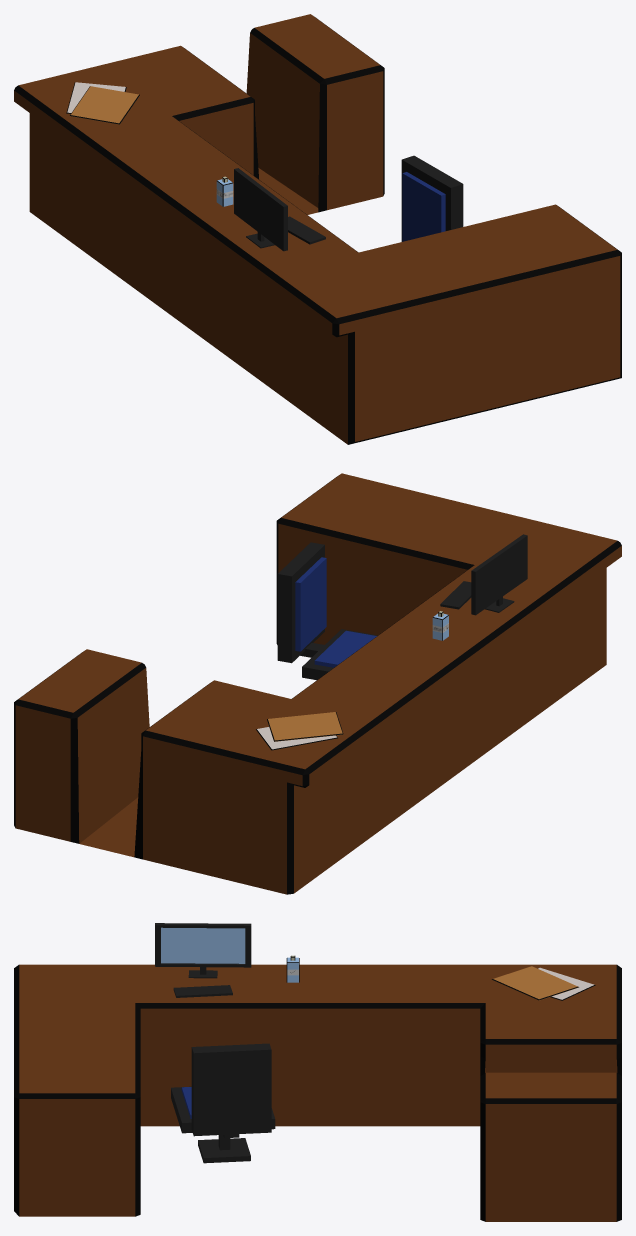
Rendered from OF_Table 1.fbx.
The picture shows the model from 3 angles, top to bottom: view 1: azimuth 30°, elevation 25°; view 2: azimuth 150°, elevation 25°; view 3: azimuth 270°, elevation 25°; orthographic projection. The views are drawn at different scales.
Visible parts, largest first — view 1: Cube.013; view 2: Cube.013; view 3: Cube.013.
Boxes of the visible parts, x1=… form: Cube.013: x1=14, y1=14, x2=621, y2=444; Cube.013: x1=14, y1=473, x2=621, y2=894; Cube.013: x1=14, y1=923, x2=621, y2=1221.
Size of the model in its own units: 252 by 146 by 470.
9 materials, 2 textured.
